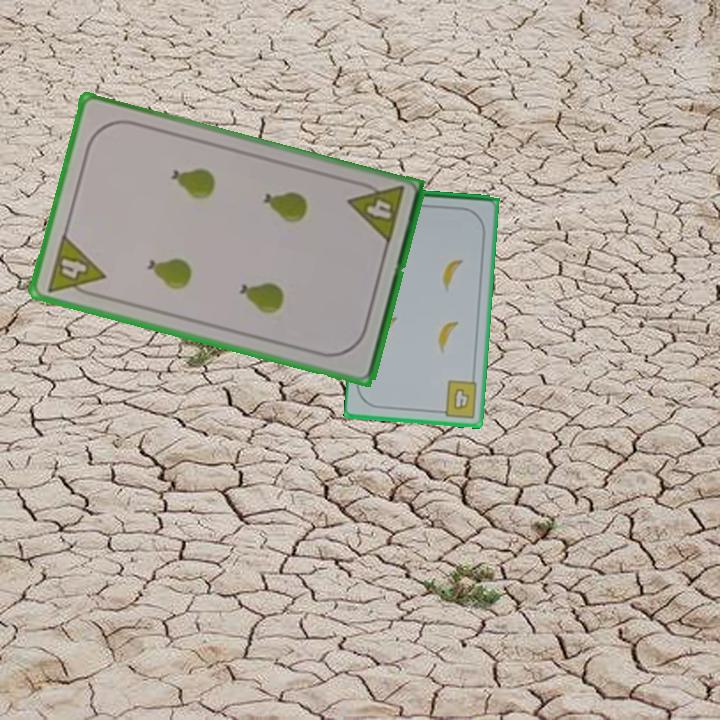4b: (435, 377, 480, 421)
4p: (43, 230, 108, 302), (345, 177, 407, 247)
